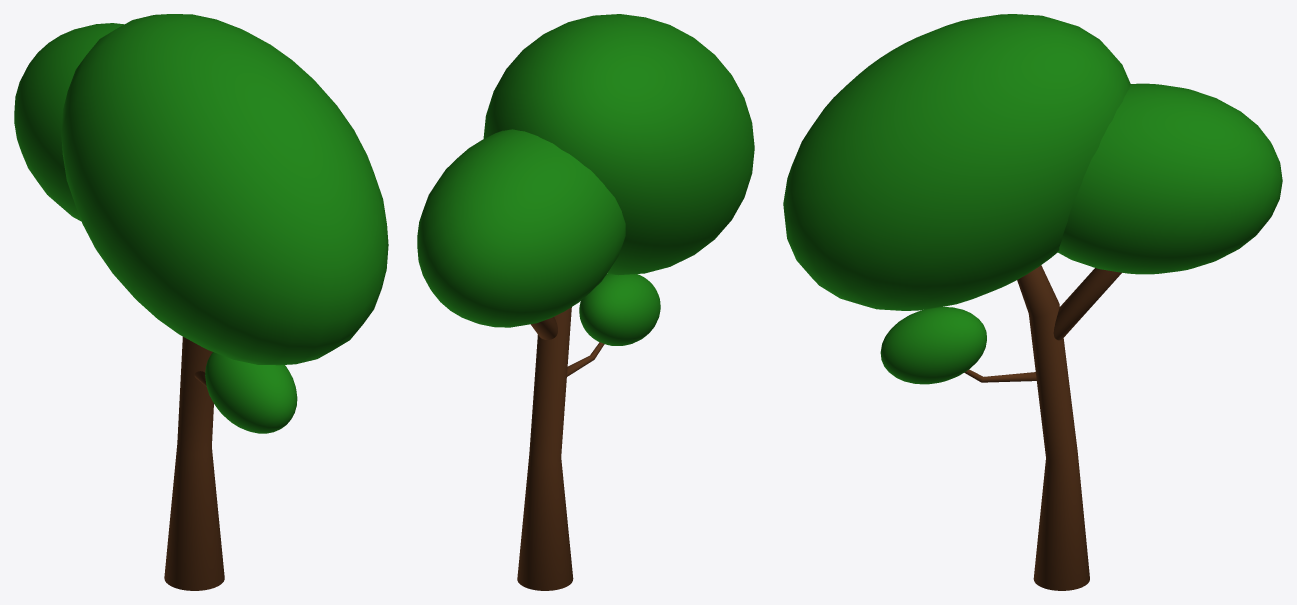
File: tree.fbx
3 views of the same model, side by side, from view 1: azimuth 30°, elevation 25°; view 2: azimuth 150°, elevation 25°; view 3: azimuth 270°, elevation 25° (orthographic). The views are drawn at different scales.
Visible parts, largest first — view 1: Sphere, Cylinder, Sphere.001, Sphere.002; view 2: Sphere, Sphere.001, Cylinder, Sphere.002; view 3: Sphere, Sphere.001, Cylinder, Sphere.002.
Boxes of the visible parts, <box> form: Sphere: <box>61,14,388,365</box>; Cylinder: <box>164,336,224,590</box>; Sphere.001: <box>14,23,123,221</box>; Sphere.002: <box>205,352,297,433</box>; Sphere: <box>483,14,754,275</box>; Sphere.001: <box>417,129,625,327</box>; Cylinder: <box>517,307,604,590</box>; Sphere.002: <box>579,274,660,345</box>; Sphere: <box>783,14,1130,310</box>; Sphere.001: <box>1057,83,1282,274</box>; Cylinder: <box>964,265,1121,590</box>; Sphere.002: <box>880,307,986,384</box>.
Size of the model in its own units: 474 by 1063 by 894.
